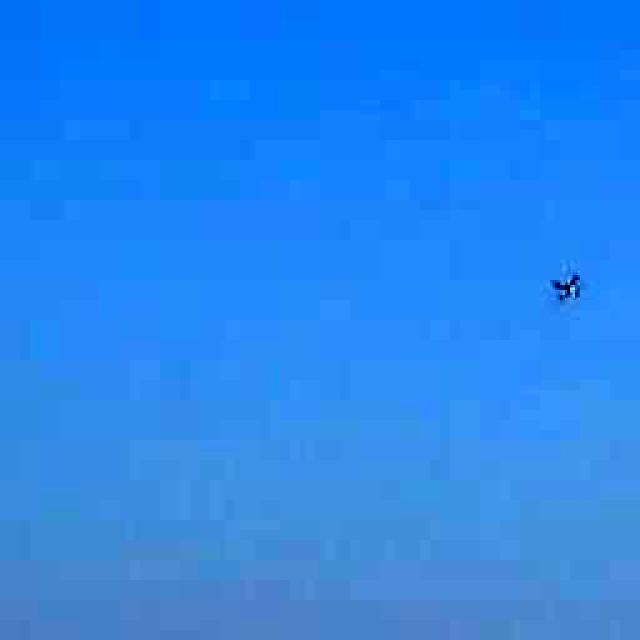bird: (531, 240, 601, 322)
